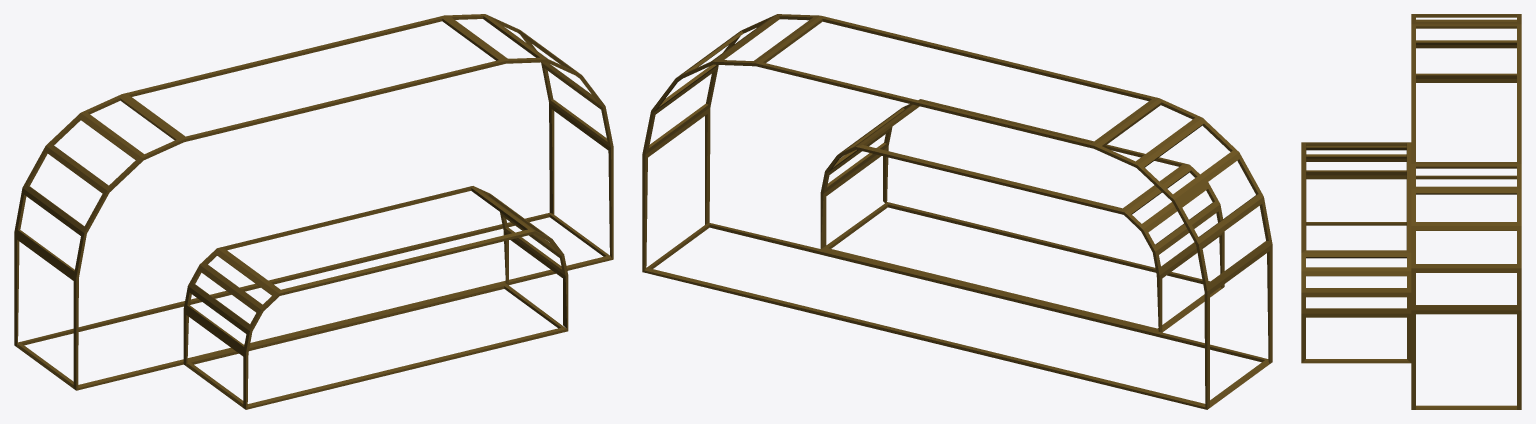
File: triple_frame_front_end.glb
3 views of the same model, side by side, from view 1: azimuth 30°, elevation 25°; view 2: azimuth 150°, elevation 25°; view 3: azimuth 270°, elevation 25° (orthographic). The views are drawn at different scales.
Parts seen in each view (by area): view 1: triple_frame_front_end; view 2: triple_frame_front_end; view 3: triple_frame_front_end.
Boxes of the visible parts, box(x1,y1,x2,y2) form: triple_frame_front_end: box(14, 14, 613, 409); triple_frame_front_end: box(642, 14, 1272, 409); triple_frame_front_end: box(1301, 14, 1521, 409).
Bounding box in the file's own units: 10 × 4 × 4.
